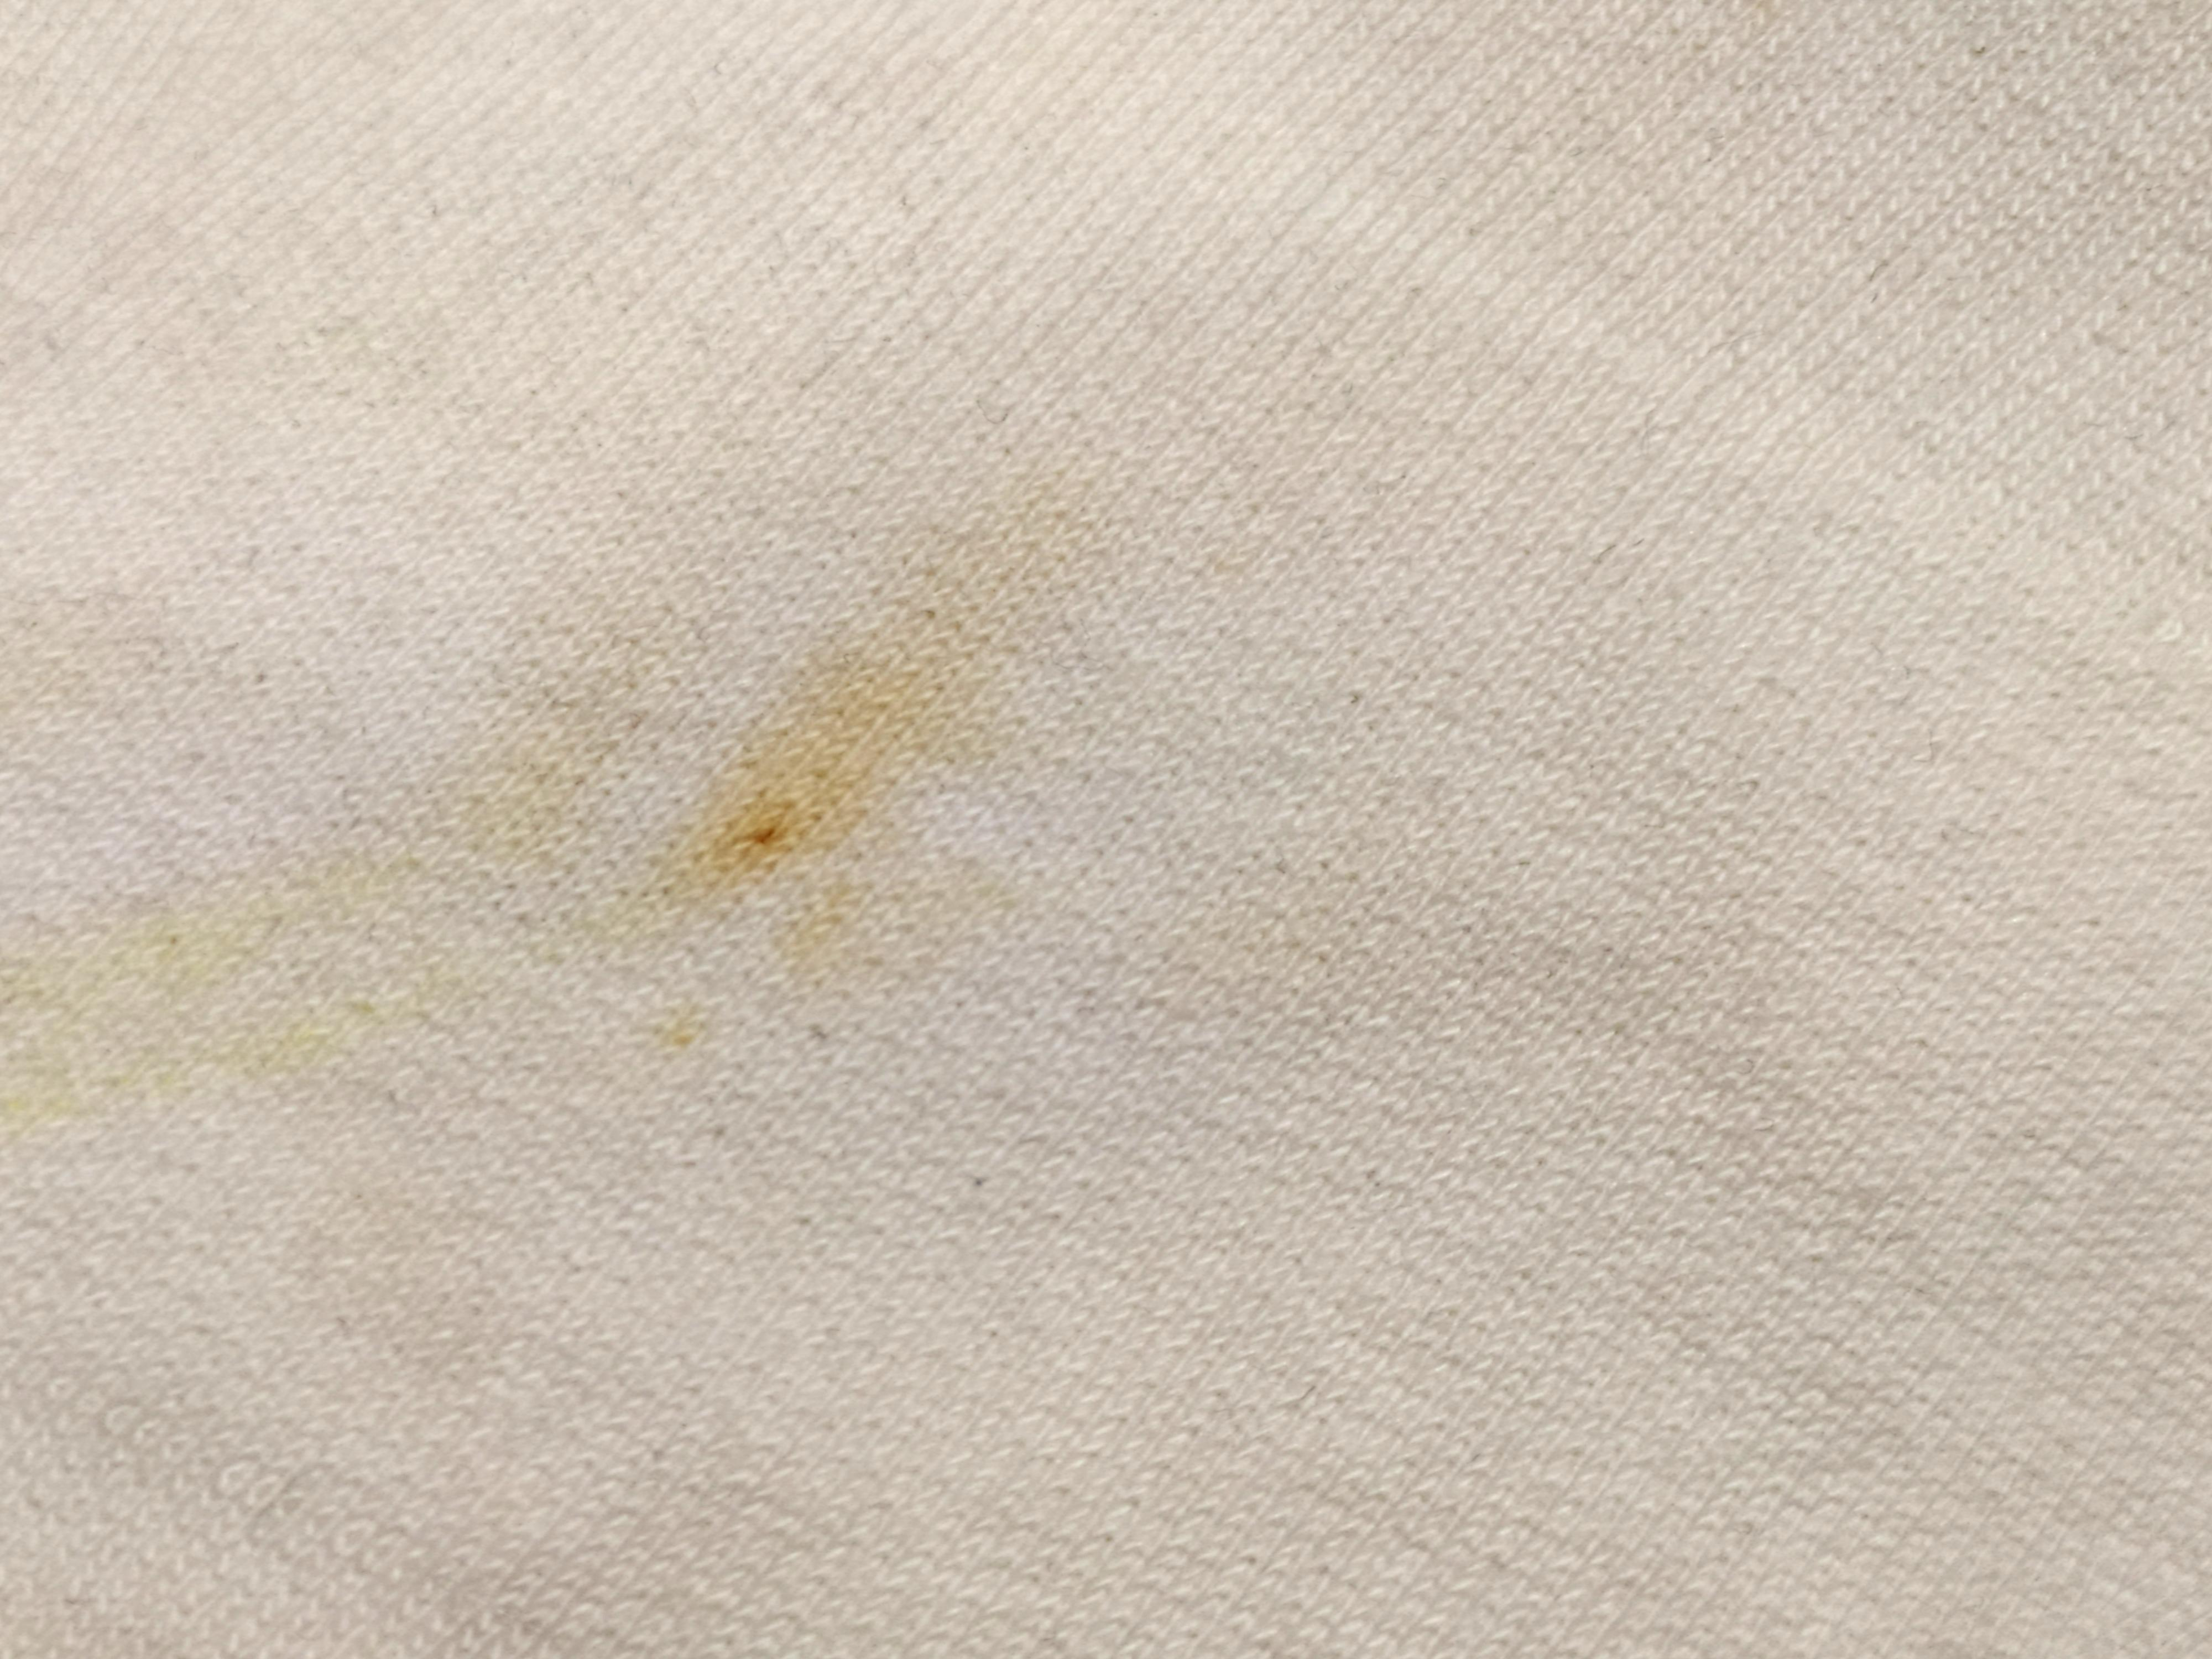stain: (679, 512, 970, 913)
